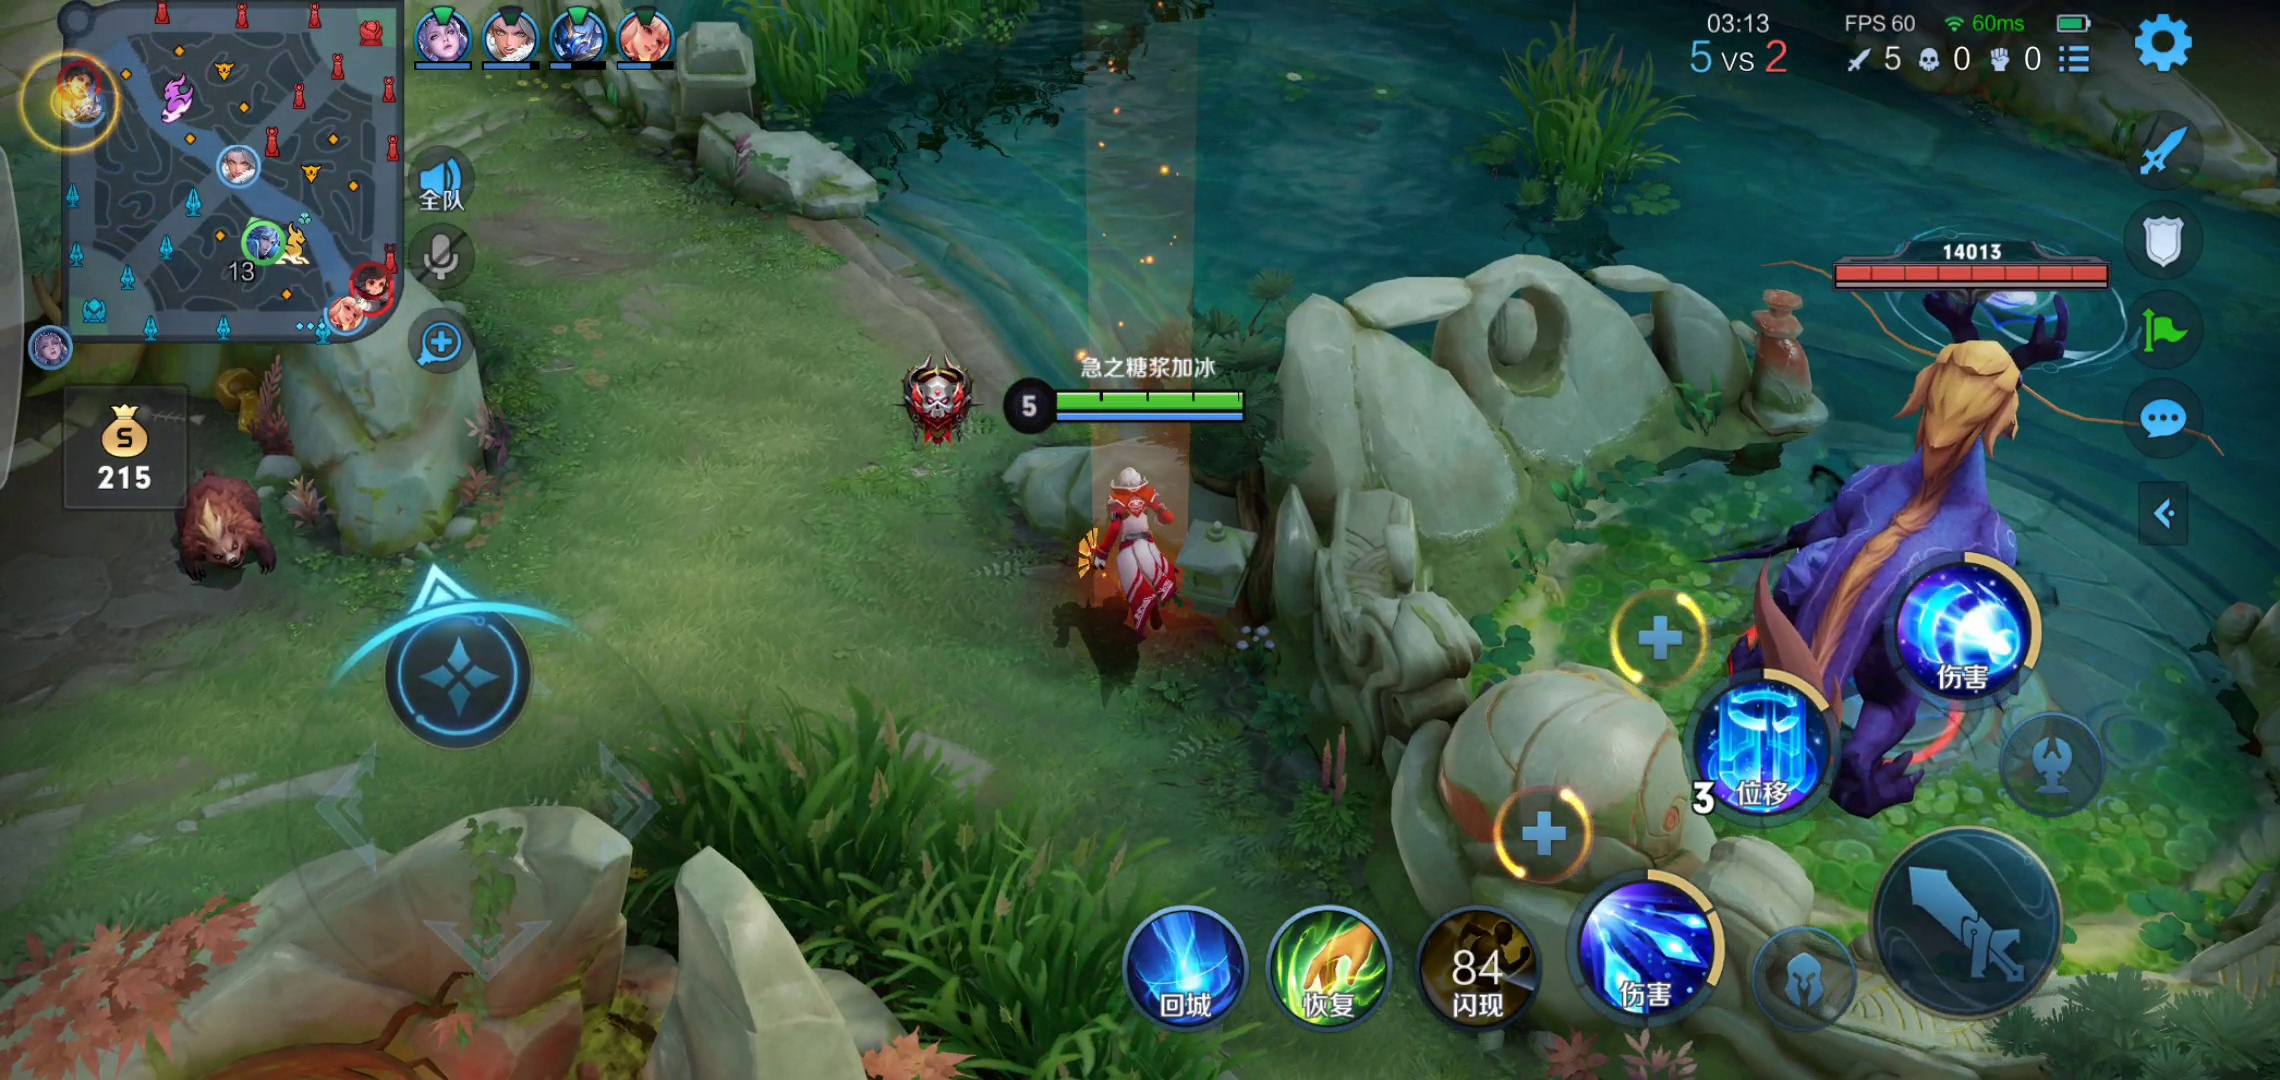dragon: (1684, 299, 2097, 847)
grass: (582, 690, 1160, 1079), (701, 1, 1025, 141), (1482, 31, 1674, 212)
hero: (1032, 458, 1200, 647)
wild_monster: (97, 430, 305, 590)
